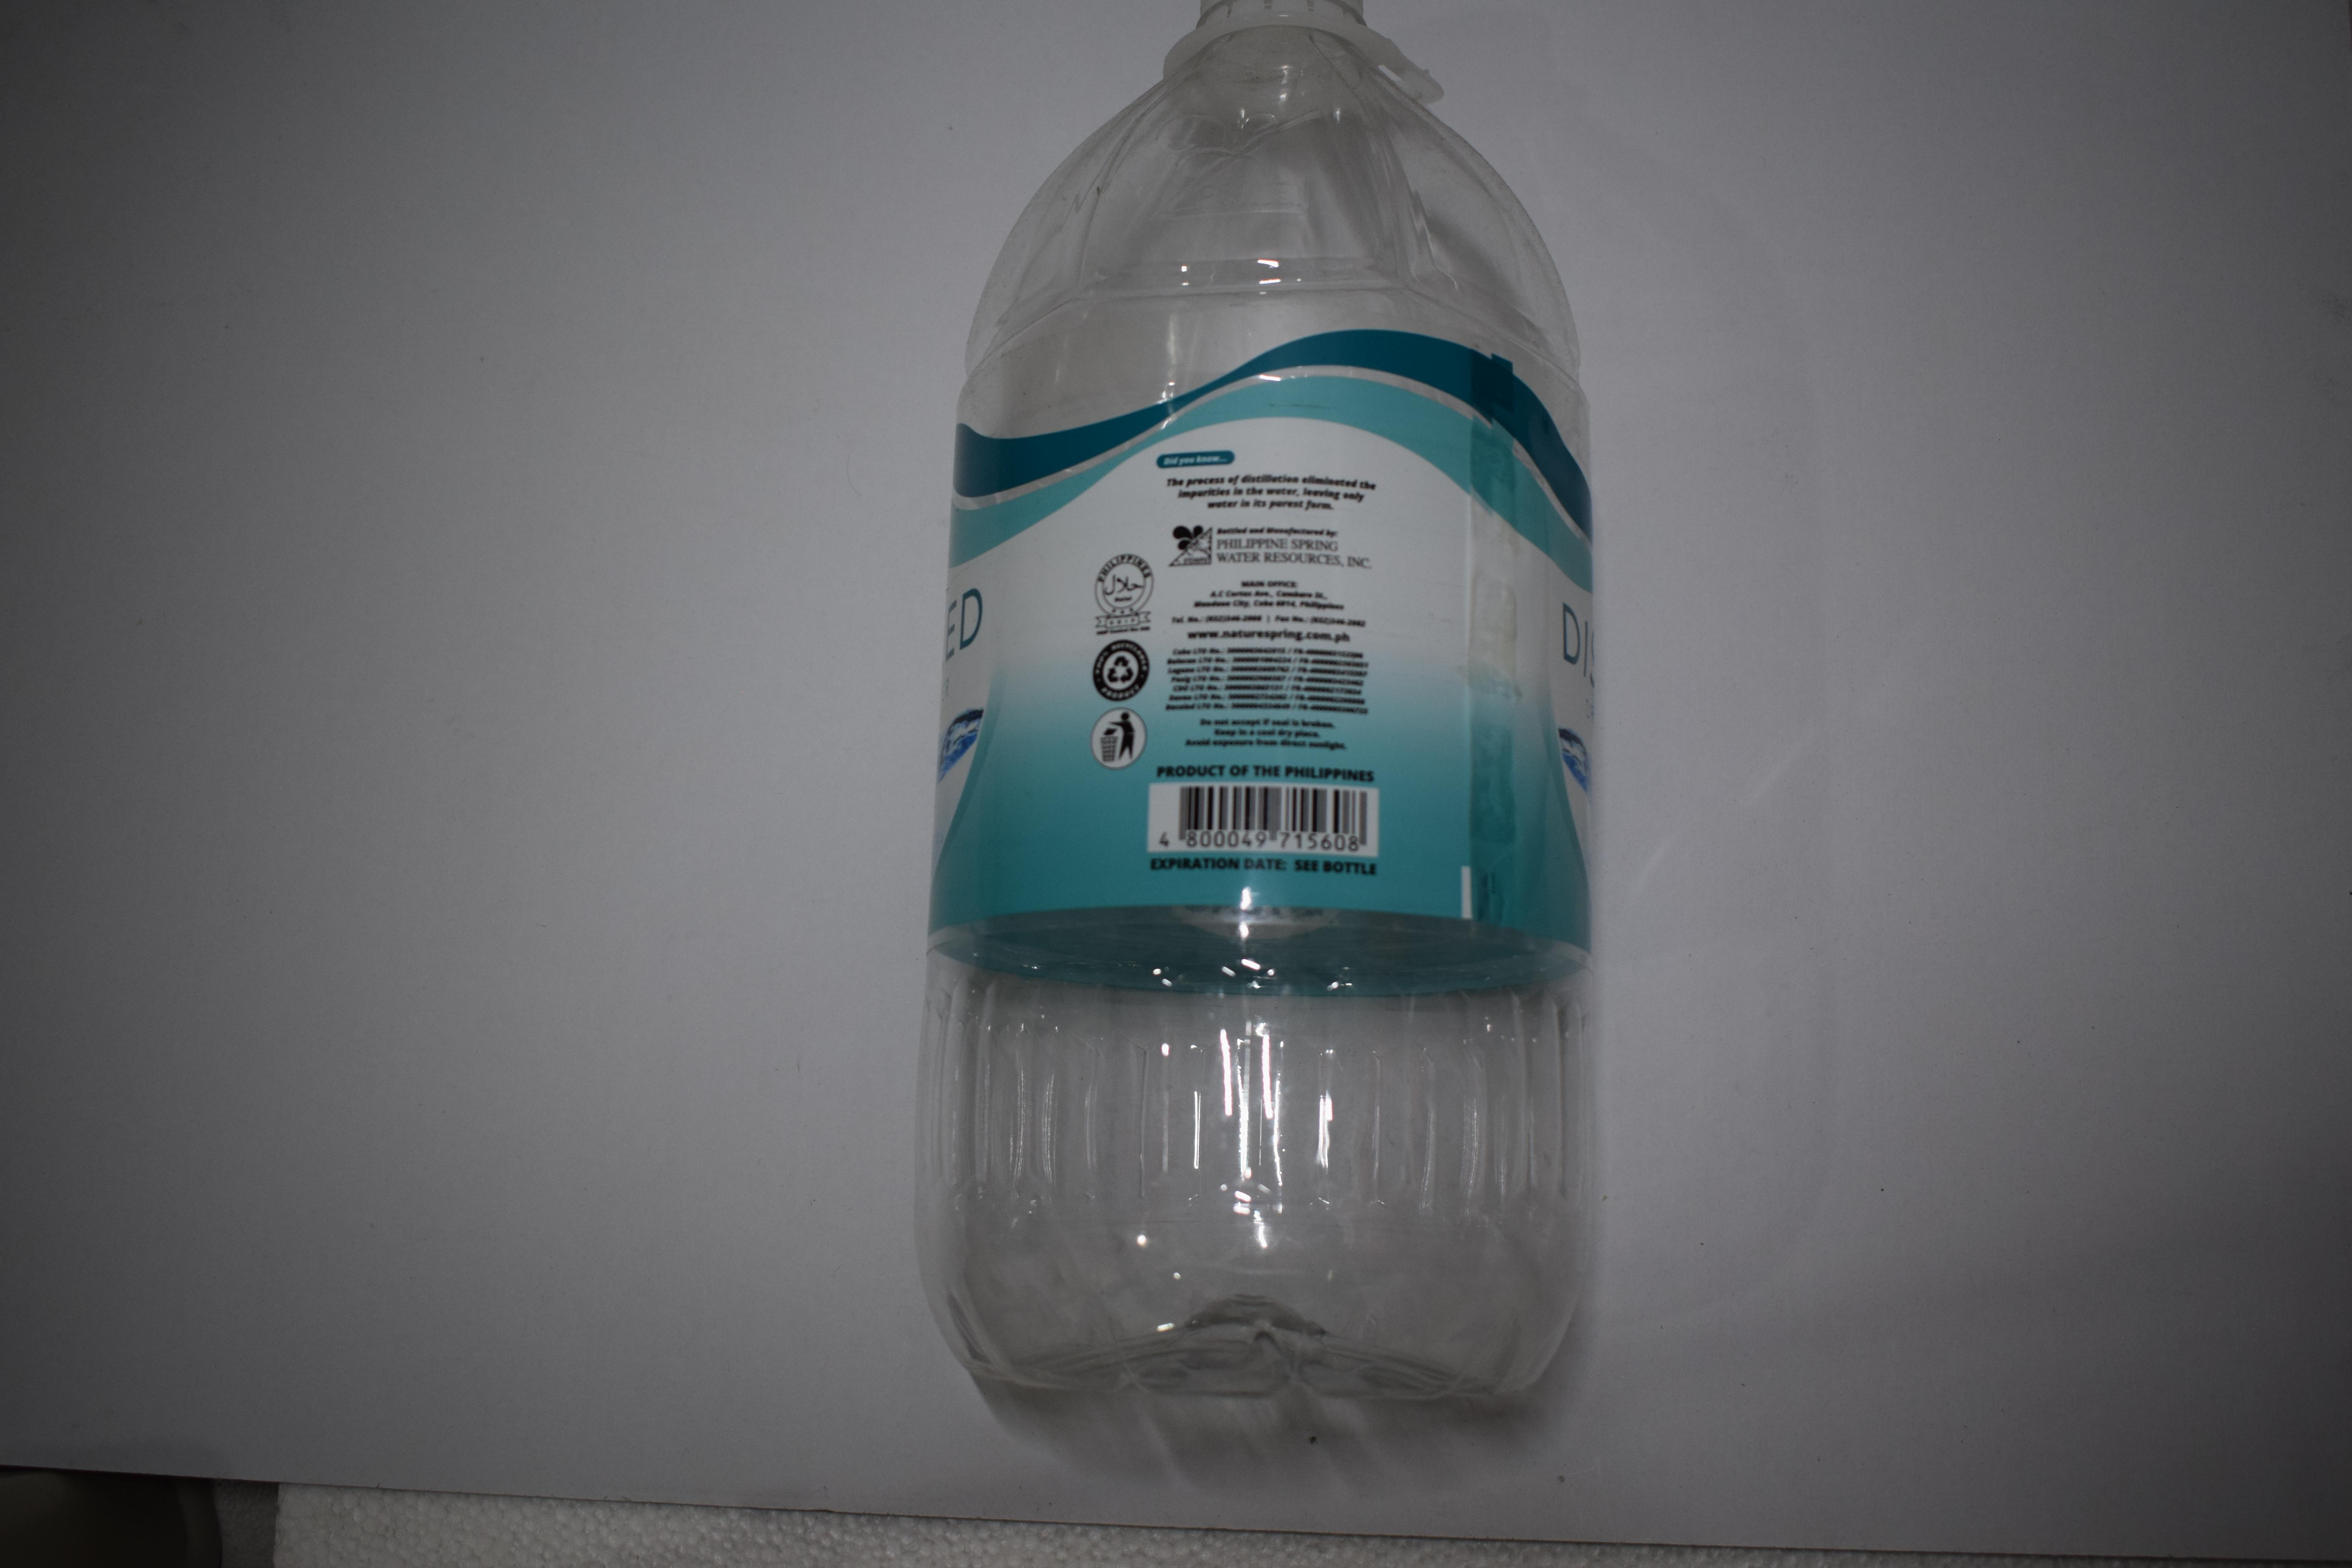bottle: (0, 0, 420, 1341)
